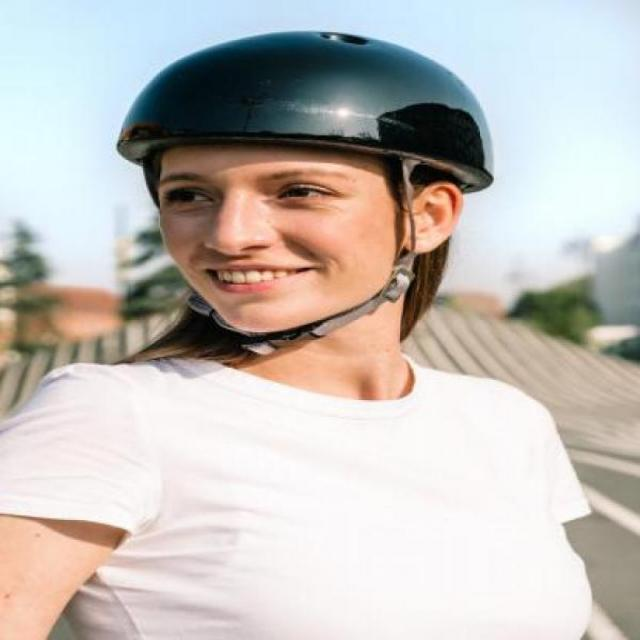Helmet: (108, 25, 474, 350)
